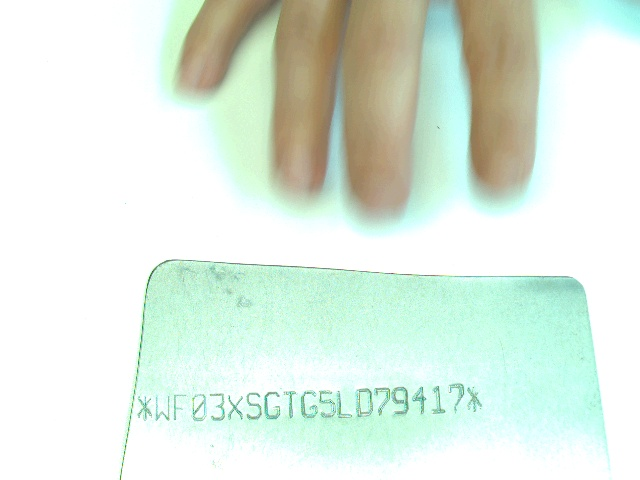0: (189, 392, 209, 422)
1: (430, 383, 447, 416)
3: (209, 392, 227, 423)
4: (411, 384, 429, 415)
5: (320, 389, 337, 419)
7: (447, 381, 467, 414), (374, 386, 392, 417)
9: (393, 385, 410, 416)
d: (355, 387, 375, 419)
f: (173, 393, 187, 422)
g: (300, 389, 320, 419), (263, 390, 282, 419)
l: (334, 387, 353, 420)
s: (245, 391, 263, 421)
t: (280, 389, 299, 418)
w: (153, 393, 172, 422)
x: (226, 392, 244, 421)
